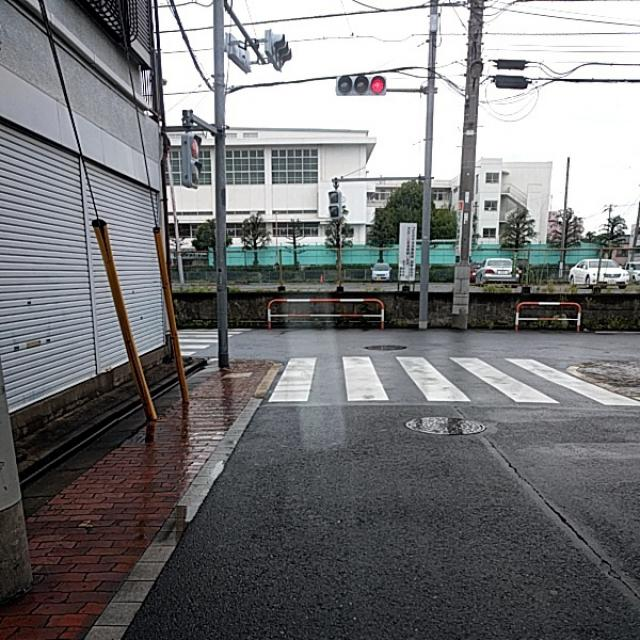pothole: (494, 446, 558, 503)
